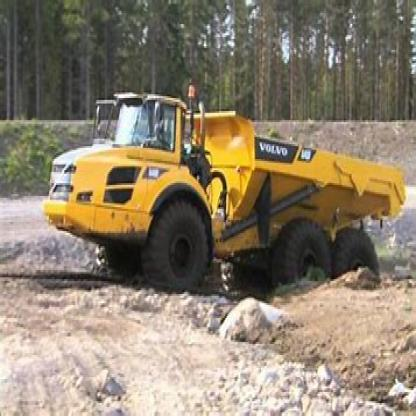dump_truck: (38, 76, 415, 320)
